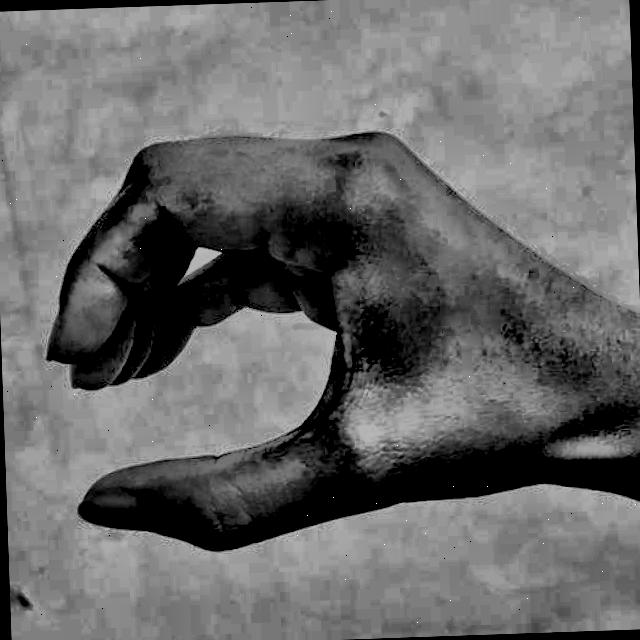Ka: (26, 68, 628, 591)
